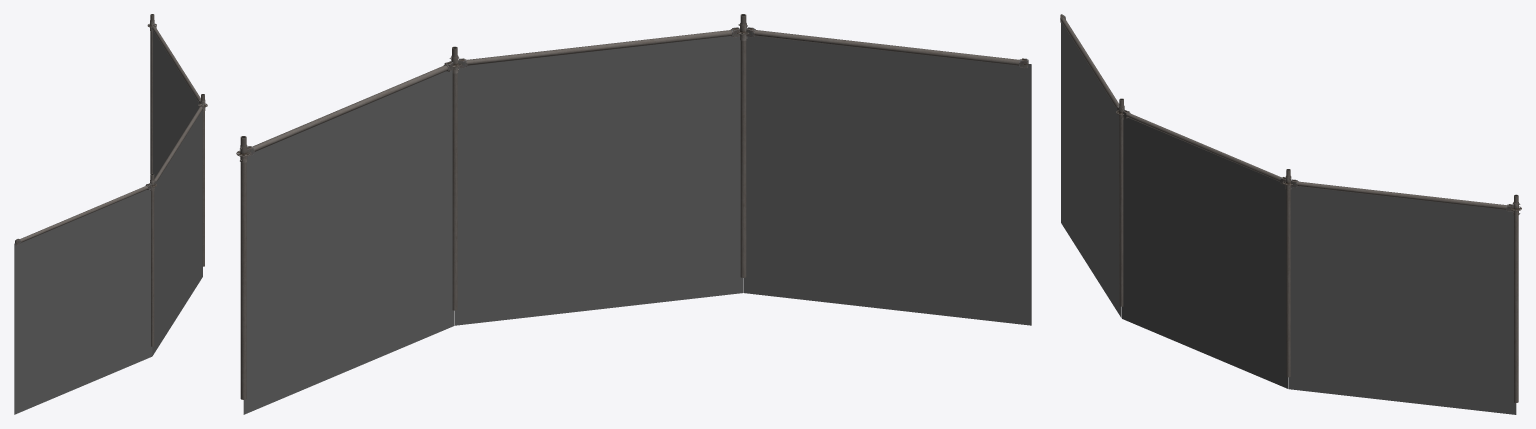
Rendered from scaffold_mid_turnr_192x192.fbx.
The picture shows the model from 3 angles, left to right: view 1: azimuth 30°, elevation 25°; view 2: azimuth 150°, elevation 25°; view 3: azimuth 270°, elevation 25°; orthographic projection. The views are drawn at different scales.
Parts seen in each view (by area): view 1: scaffold_mid_turnR_192x192; view 2: scaffold_mid_turnR_192x192; view 3: scaffold_mid_turnR_192x192.
Part boxes in pixels (x1,y1,x2,y2): scaffold_mid_turnR_192x192: (14,14,207,414); scaffold_mid_turnR_192x192: (236,14,1031,414); scaffold_mid_turnR_192x192: (1060,14,1521,414).
Size of the model in its own units: 389 by 204 by 389.
